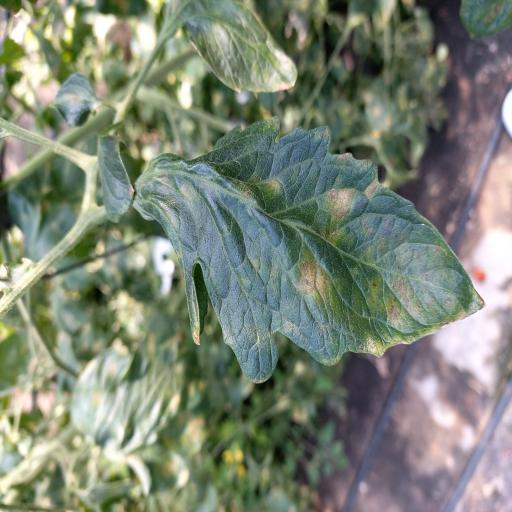Leaf Mold: (132, 116, 484, 384)
